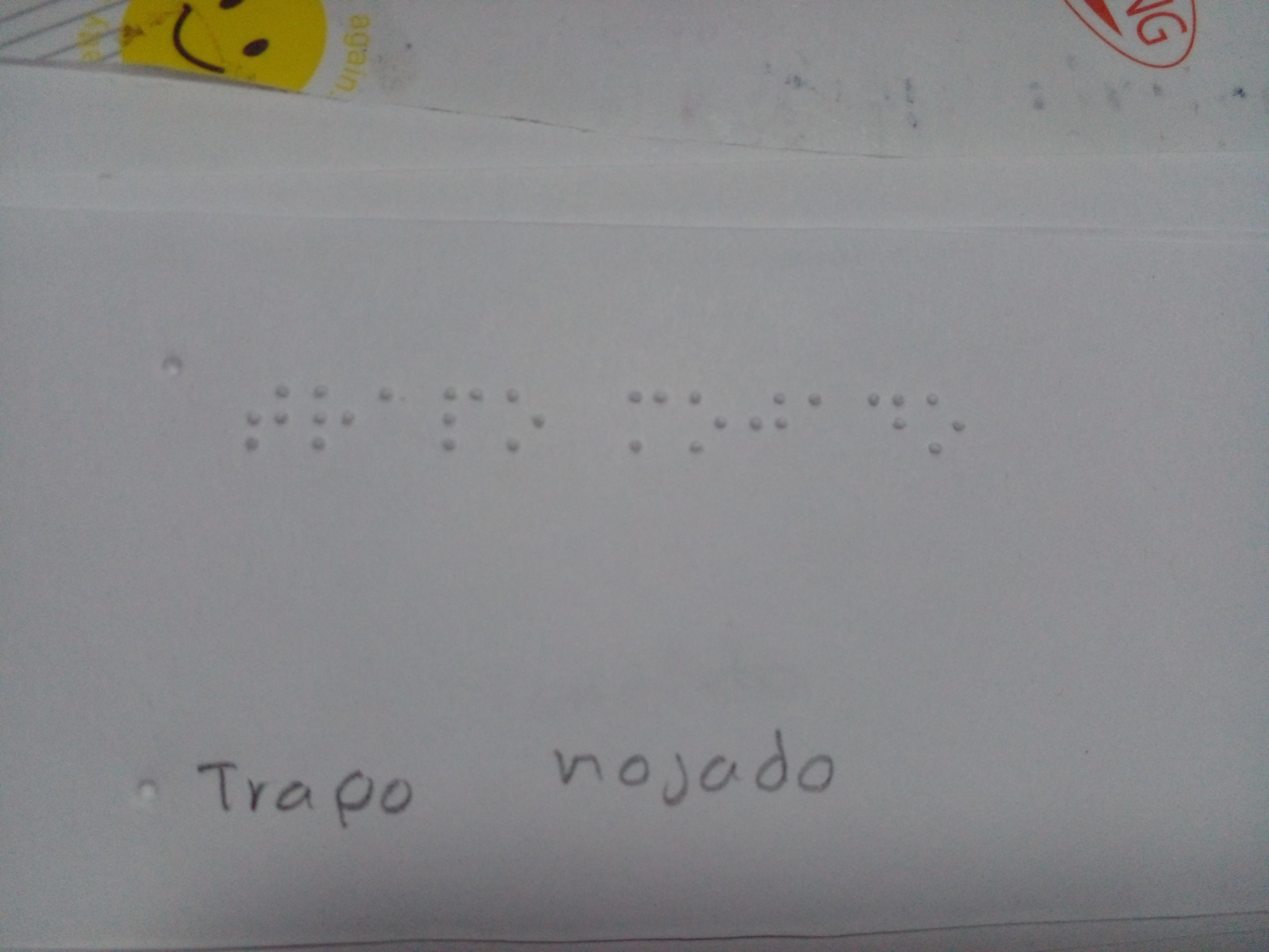a: (366, 378, 409, 417), (795, 386, 833, 417)
d: (858, 389, 909, 437)
j: (744, 389, 796, 439)
m: (620, 386, 677, 459)
o: (499, 378, 548, 465), (920, 384, 967, 457), (680, 392, 727, 462)
p: (432, 378, 490, 459)
r: (308, 375, 358, 462)
t: (246, 375, 294, 459)
